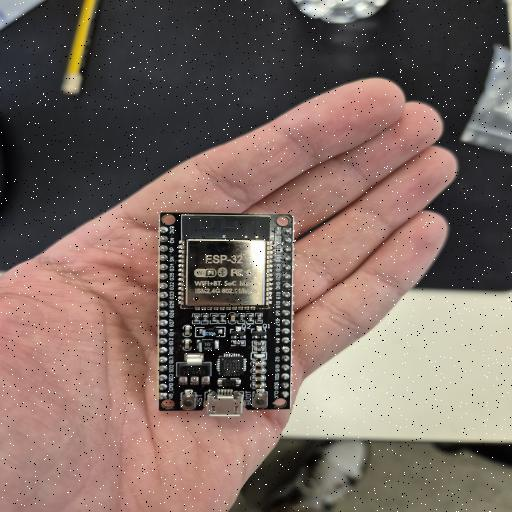esp32-dev: (159, 213, 293, 415)
